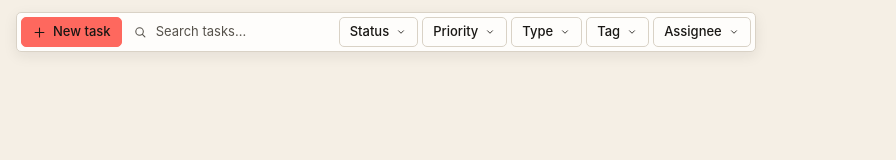
Test: Toolbar › Escape cancels but keeps the draft for reopening
Click the button with aria-label "+ New task".
click(71, 32)  # box [21,17,122,47]
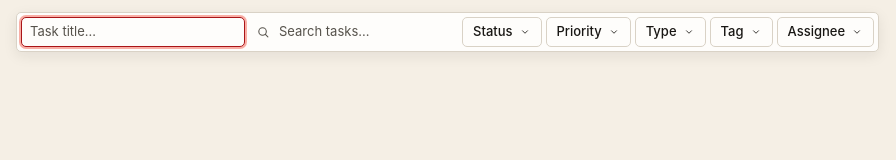
Type "half-typed" into the field named "New task title".
click(133, 32); type("half-typed")  # box [21,17,245,47]
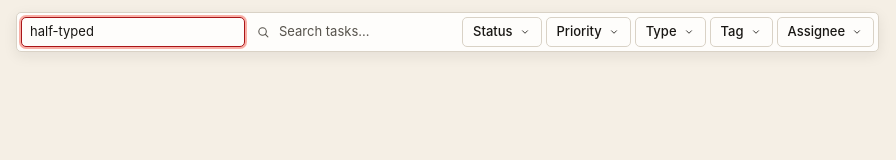
Press Escape in the field named "New task title", box [21,17,245,47]
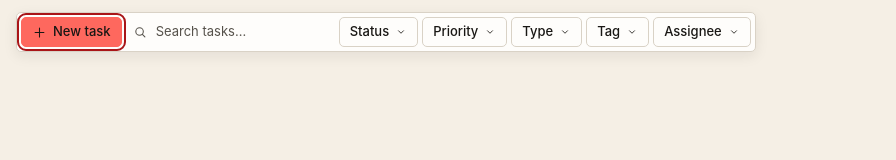
Click the button with aria-label "+ New task".
click(71, 32)  # box [21,17,122,47]
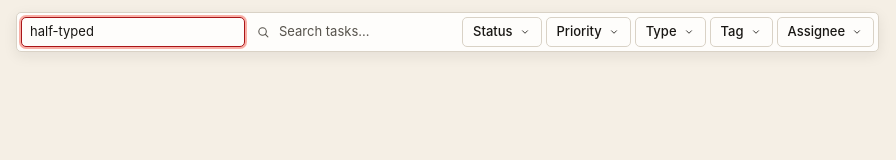
Now the field named "New task title" holds "half-typed", box [21,17,245,47]
